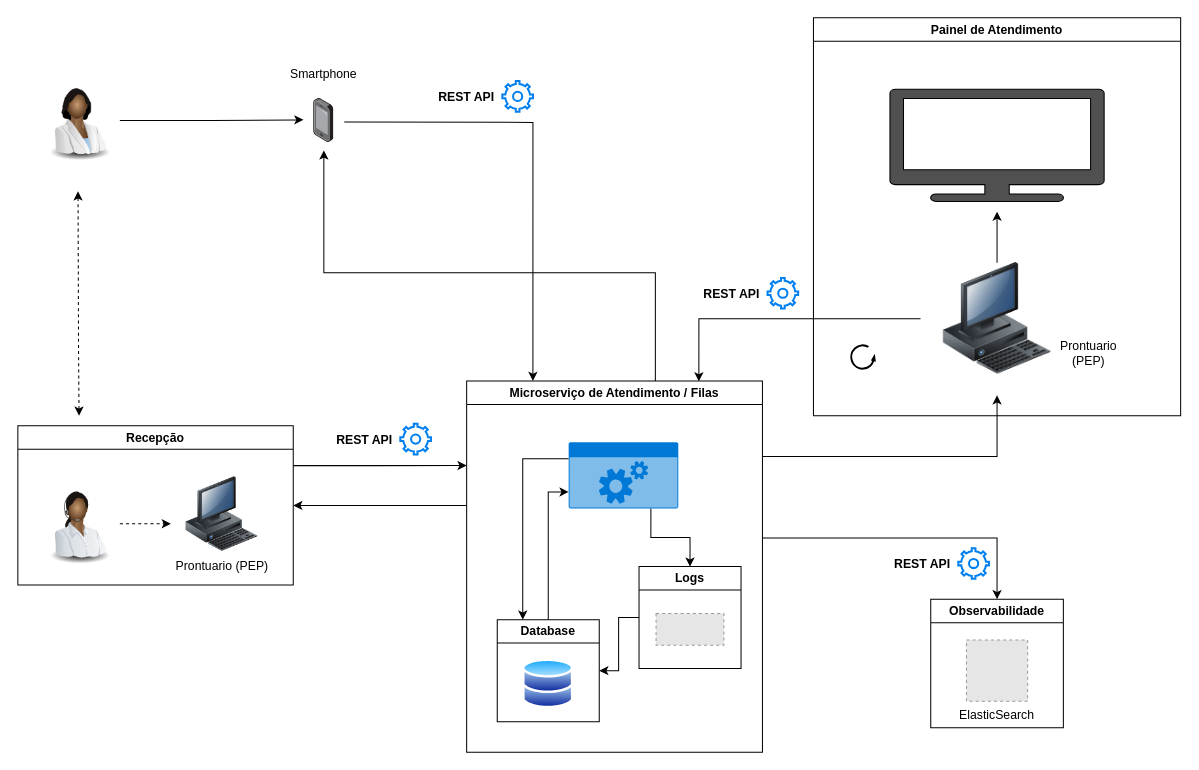
The diagram is 1199 pixels wide and 770 high, and some of its shapes have lost their labels. Grey dashed boxes stand in for pictures. The centre of each missing label's shape, as x and y in pixels:
"EXAM. 004" belongs at point (996, 144).
"Paciente" belongs at point (78, 120).
"Pooling" belongs at point (862, 356).
"Services" belongs at point (623, 475).
